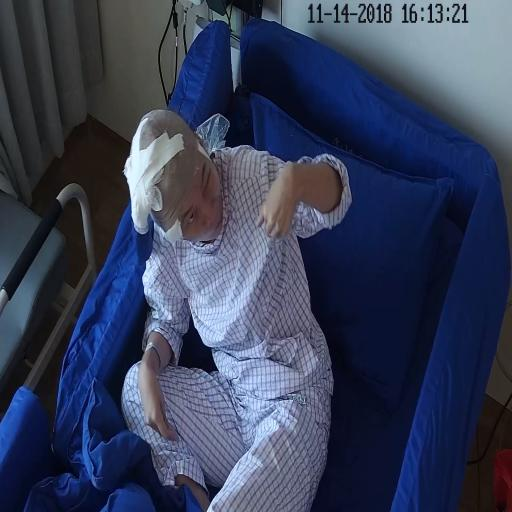Seizure: (147, 123, 228, 240)
